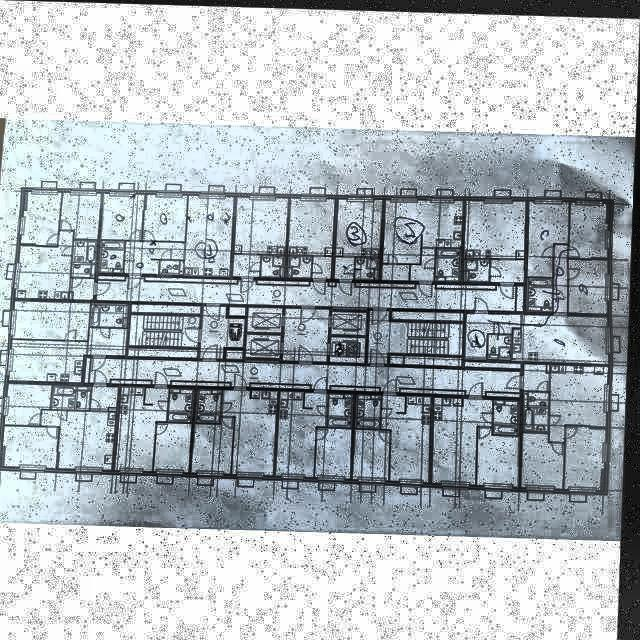room: (87, 357, 524, 394), (99, 274, 525, 307), (12, 325, 129, 383), (44, 385, 121, 469), (434, 394, 496, 482), (370, 307, 466, 362), (222, 386, 281, 475), (385, 197, 464, 261), (514, 310, 613, 360), (118, 384, 172, 472), (553, 361, 610, 439), (383, 392, 434, 479), (278, 389, 329, 475), (18, 227, 75, 301), (186, 193, 235, 275), (466, 197, 527, 255), (236, 193, 290, 253), (15, 300, 93, 340), (529, 197, 570, 273), (337, 195, 383, 255), (290, 194, 336, 253), (568, 422, 609, 487), (480, 424, 523, 484), (468, 310, 523, 356), (195, 414, 237, 473), (5, 425, 62, 468), (203, 304, 248, 358), (525, 429, 568, 485), (286, 306, 331, 359), (22, 189, 63, 246), (132, 313, 202, 346), (571, 198, 611, 255), (103, 191, 146, 240), (571, 255, 610, 309), (145, 192, 188, 240), (61, 190, 103, 239), (8, 382, 54, 426), (127, 240, 186, 274), (357, 427, 393, 478), (158, 421, 194, 472), (320, 425, 355, 477), (525, 388, 552, 428), (93, 302, 131, 326), (74, 239, 98, 277), (334, 334, 369, 360), (199, 387, 225, 422), (358, 392, 384, 426), (250, 306, 285, 331), (171, 386, 196, 421), (556, 241, 569, 308), (331, 391, 356, 425), (497, 397, 522, 431), (529, 274, 554, 308), (438, 245, 463, 278), (412, 245, 437, 278), (334, 309, 369, 332), (248, 333, 283, 356), (492, 256, 526, 279), (103, 239, 126, 273), (527, 360, 552, 387), (55, 384, 79, 410), (490, 331, 514, 356), (235, 253, 262, 275), (467, 256, 491, 279), (358, 255, 382, 277), (263, 254, 287, 275), (290, 255, 313, 276), (73, 278, 96, 299), (314, 253, 334, 277), (336, 254, 356, 277), (384, 262, 411, 278), (80, 384, 94, 410), (162, 259, 186, 273)
